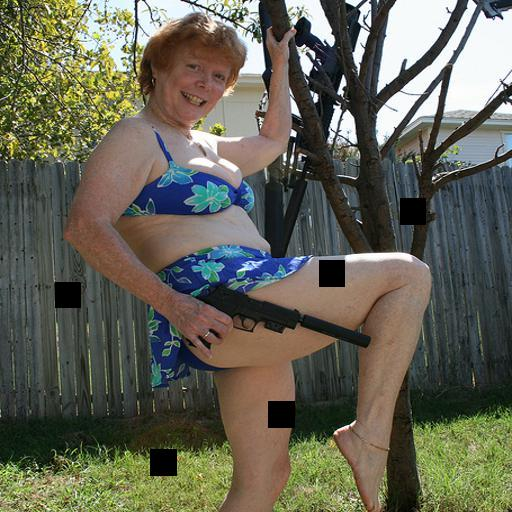Handgun: (183, 281, 300, 353)
